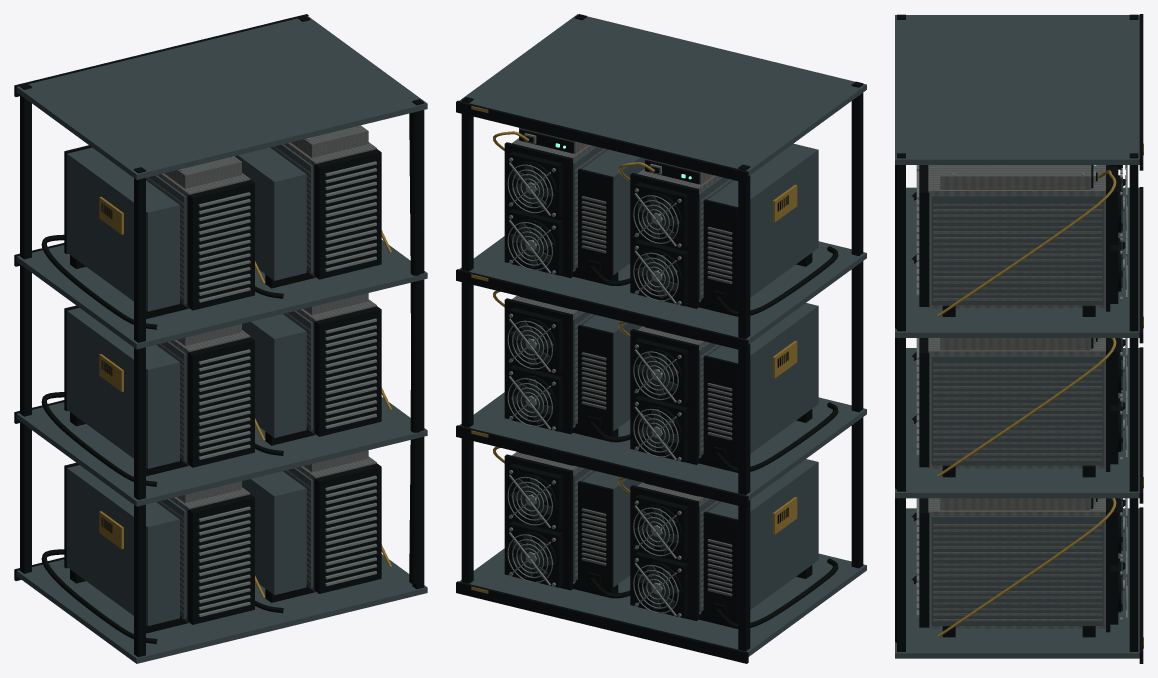
Rendered from mining-gangs-rack-v1.glb.
The picture shows the model from 3 angles, left to right: view 1: azimuth 30°, elevation 25°; view 2: azimuth 150°, elevation 25°; view 3: azimuth 270°, elevation 25°; orthographic projection. The views are drawn at different scales.
Parts seen in each view (by area): view 1: rack assembly / anodized heatsink, rack assembly / fan polymer, asic-2 / anodized heatsink, asic-4 / anodized heatsink, asic-6 / anodized heatsink, asic-1 / anodized heatsink, asic-3 / anodized heatsink, asic-5 / anodized heatsink, asic-2 / fan polymer, asic-4 / fan polymer, asic-6 / fan polymer, asic-1 / fan polymer (+21 smaller); view 2: rack assembly / anodized heatsink, rack assembly / fan polymer, fan rotor / graphite blades (×12), asic-2 / fan polymer, asic-1 / fan polymer, asic-6 / fan polymer, asic-4 / fan polymer, asic-3 / fan polymer, asic-5 / fan polymer, asic-2 / anodized heatsink, asic-6 / anodized heatsink, asic-4 / anodized heatsink (+24 smaller); view 3: rack assembly / anodized heatsink, asic-1 / brushed aluminium, asic-3 / brushed aluminium, asic-3 / anodized heatsink, asic-1 / anodized heatsink, asic-5 / brushed aluminium, asic-5 / anodized heatsink, rack assembly / fan polymer, asic-1 / fan polymer, asic-5 / fan polymer, asic-3 / fan polymer, asic-1 / steel guard wire (+6 smaller).
Part boxes in pixels (box(x1,y1,x2,y2)): rack assembly / anodized heatsink: box(16, 16, 427, 663); rack assembly / fan polymer: box(14, 14, 424, 657); asic-2 / anodized heatsink: box(67, 147, 186, 311); asic-4 / anodized heatsink: box(67, 308, 186, 468); asic-6 / anodized heatsink: box(67, 465, 186, 625); asic-1 / anodized heatsink: box(234, 144, 312, 280); asic-3 / anodized heatsink: box(242, 311, 312, 437); asic-5 / anodized heatsink: box(242, 468, 312, 595); asic-2 / fan polymer: box(64, 145, 254, 310); asic-4 / fan polymer: box(64, 305, 254, 467); asic-6 / fan polymer: box(64, 462, 254, 624); asic-1 / fan polymer: box(314, 149, 381, 279); rack assembly / anodized heatsink: box(459, 14, 866, 656); rack assembly / fan polymer: box(456, 14, 863, 663); fan rotor / graphite blades (×12): box(510, 164, 679, 609); asic-2 / fan polymer: box(630, 160, 788, 309); asic-1 / fan polymer: box(504, 129, 613, 278); asic-6 / fan polymer: box(630, 483, 788, 621); asic-4 / fan polymer: box(630, 327, 788, 465); asic-3 / fan polymer: box(504, 296, 613, 434); asic-5 / fan polymer: box(504, 452, 613, 590); asic-2 / anodized heatsink: box(699, 143, 818, 300); asic-6 / anodized heatsink: box(699, 459, 818, 612); asic-4 / anodized heatsink: box(699, 303, 818, 456); rack assembly / anodized heatsink: box(895, 15, 1139, 658); asic-1 / brushed aluminium: box(928, 165, 1105, 308); asic-3 / brushed aluminium: box(928, 338, 1105, 468); asic-3 / anodized heatsink: box(931, 355, 1103, 465); asic-1 / anodized heatsink: box(931, 195, 1103, 305); asic-5 / brushed aluminium: box(928, 498, 1105, 628); asic-5 / anodized heatsink: box(931, 516, 1103, 625); rack assembly / fan polymer: box(897, 14, 1143, 663); asic-1 / fan polymer: box(919, 165, 1121, 311); asic-5 / fan polymer: box(919, 498, 1121, 632); asic-3 / fan polymer: box(919, 338, 1121, 471); asic-1 / steel guard wire: box(916, 170, 1127, 300).
Bounding box in the file's own units: 3.47 × 5.61 × 2.51.
10 materials, 1 textured.
